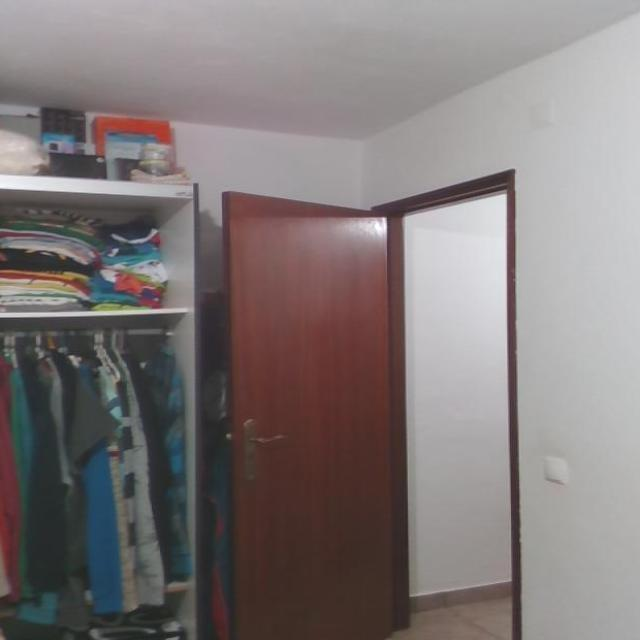door: (221, 189, 395, 638)
